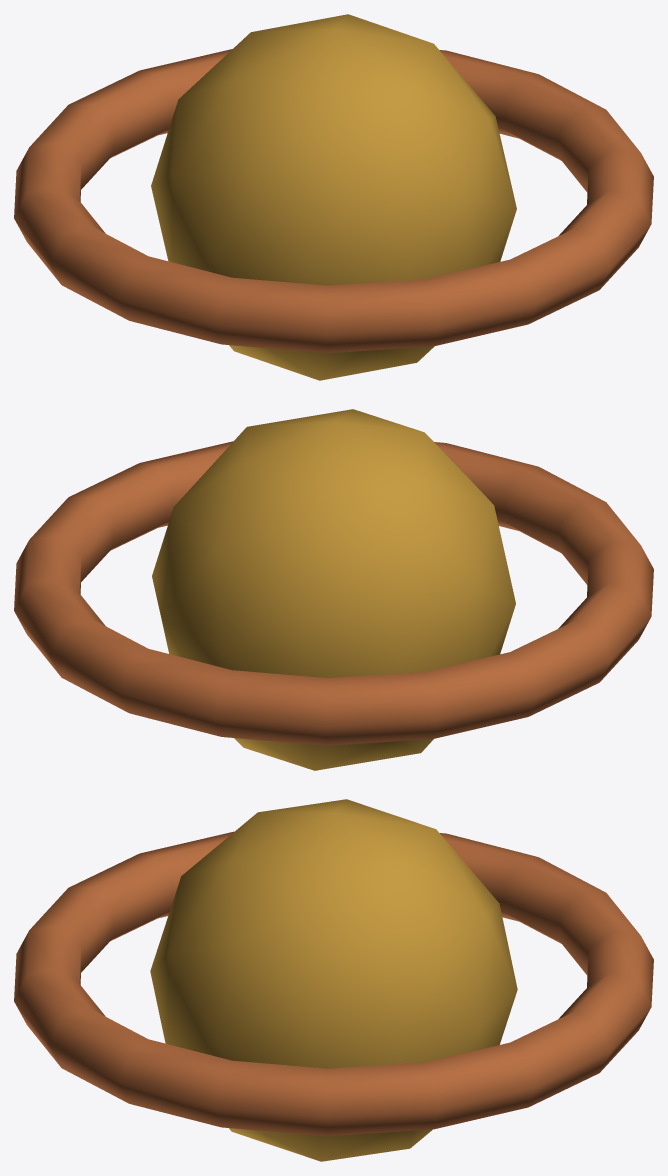
Rendered from off_07_sun_tome.glb.
3 renders of one model, top to bottom at view 1: azimuth 30°, elevation 25°; view 2: azimuth 150°, elevation 25°; view 3: azimuth 270°, elevation 25°, orthographic.
Visible parts, largest first — view 1: focus_core, focus_ring; view 2: focus_core, focus_ring; view 3: focus_core, focus_ring.
Boxes of the visible parts, box(x1,y1,x2,y2) form: focus_core: box(151, 14, 516, 380); focus_ring: box(14, 49, 653, 353); focus_core: box(152, 409, 515, 770); focus_ring: box(14, 441, 653, 745); focus_core: box(150, 799, 517, 1161); focus_ring: box(14, 831, 653, 1136).
Size of the model in its own units: 0.5599 by 0.32 by 0.5535.
